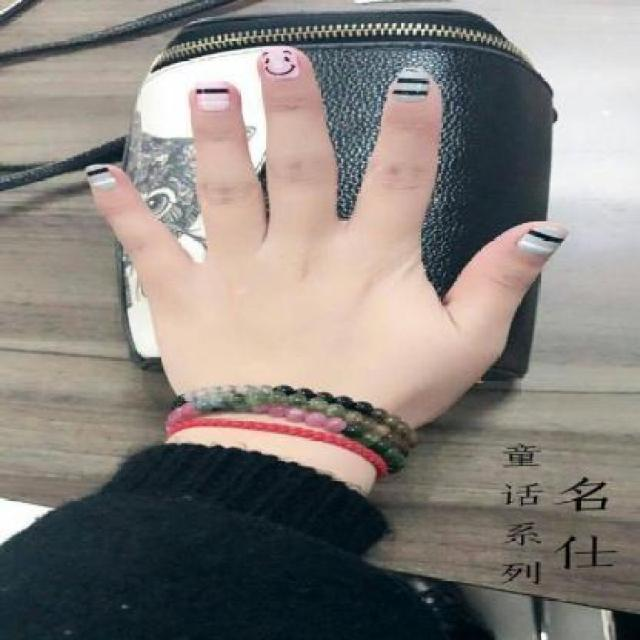hand_noglove: (80, 48, 566, 423)
